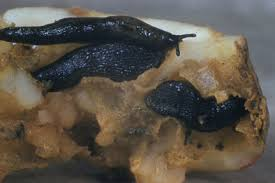slug: (1, 15, 186, 55), (41, 39, 167, 93), (145, 79, 242, 132)
